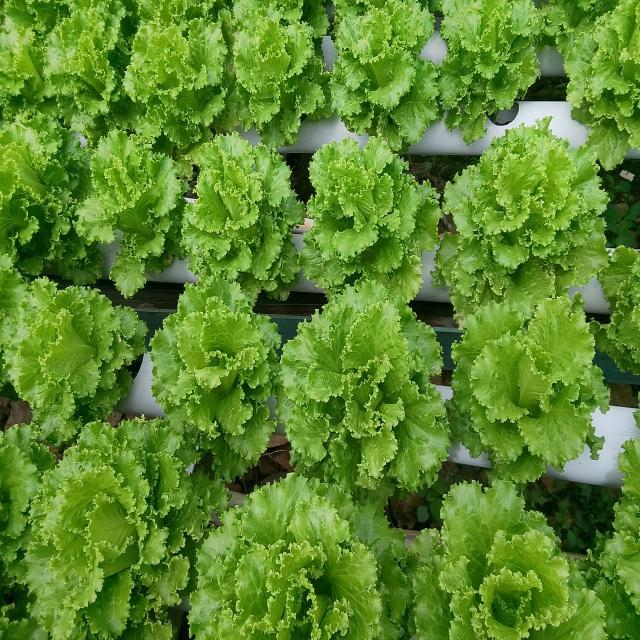Mature: (4, 416, 232, 638), (278, 281, 451, 492), (189, 473, 406, 640), (433, 117, 608, 317), (407, 479, 609, 640), (454, 288, 611, 466), (2, 269, 149, 439), (150, 277, 282, 466), (301, 137, 443, 302), (183, 132, 305, 291), (212, 0, 334, 148), (0, 114, 105, 285), (77, 130, 183, 296), (0, 0, 128, 134), (330, 0, 442, 151), (540, 0, 640, 169), (123, 0, 228, 146), (439, 0, 544, 142)
